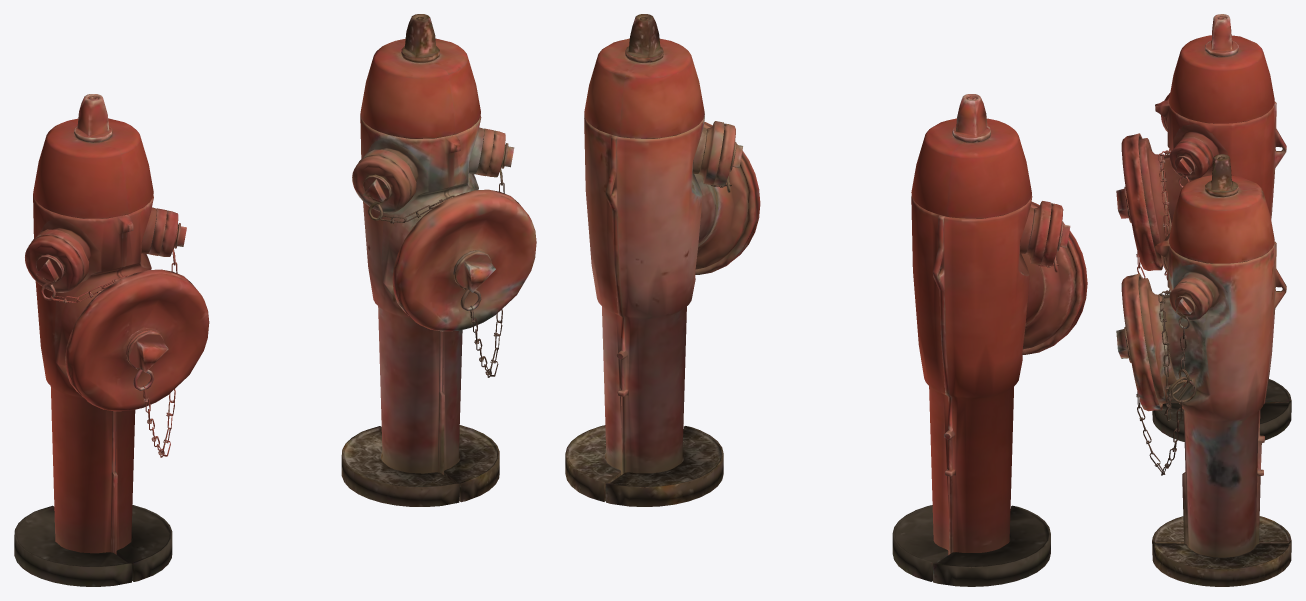
The model's file is PH-fire_hydrant.glb.
The picture shows the model from 3 angles, left to right: view 1: azimuth 30°, elevation 25°; view 2: azimuth 150°, elevation 25°; view 3: azimuth 270°, elevation 25°; orthographic projection. The views are drawn at different scales.
Visible parts, largest first — view 1: fire_hydrant, fire_hydrant_aged, fire_hydrant_cap_01_aged, fire_hydrant_cap_01, fire_hydrant_cap_03_aged, fire_hydrant_cap_03, fire_hydrant_chain_aged, fire_hydrant_chain, fire_hydrant_cap_02_aged, fire_hydrant_cap_02; view 2: fire_hydrant, fire_hydrant_aged, fire_hydrant_cap_01_aged, fire_hydrant_cap_01, fire_hydrant_cap_03, fire_hydrant_cap_03_aged; view 3: fire_hydrant_aged, fire_hydrant, fire_hydrant_cap_01_aged, fire_hydrant_cap_01, fire_hydrant_chain_aged, fire_hydrant_cap_02_aged, fire_hydrant_cap_02, fire_hydrant_chain.
Part boxes in pixels (x1,y1,x2,y2): fire_hydrant: (14, 94, 172, 586); fire_hydrant_aged: (341, 14, 499, 506); fire_hydrant_cap_01_aged: (392, 189, 536, 331); fire_hydrant_cap_01: (65, 269, 209, 411); fire_hydrant_cap_03_aged: (352, 155, 411, 213); fire_hydrant_cap_03: (25, 235, 83, 292); fire_hydrant_chain_aged: (368, 144, 505, 377); fire_hydrant_chain: (41, 224, 178, 457); fire_hydrant_cap_02_aged: (486, 130, 514, 177); fire_hydrant_cap_02: (158, 210, 186, 256); fire_hydrant: (892, 94, 1075, 586); fire_hydrant_aged: (565, 14, 748, 506); fire_hydrant_cap_01_aged: (695, 122, 760, 274); fire_hydrant_cap_01: (1022, 202, 1087, 354); fire_hydrant_cap_03: (1040, 203, 1070, 266); fire_hydrant_cap_03_aged: (713, 123, 742, 186); fire_hydrant_aged: (1139, 154, 1291, 586); fire_hydrant: (1139, 14, 1291, 441); fire_hydrant_cap_01_aged: (1116, 273, 1162, 411); fire_hydrant_cap_01: (1116, 133, 1162, 270); fire_hydrant_chain_aged: (1136, 289, 1196, 475); fire_hydrant_cap_02_aged: (1169, 281, 1209, 320); fire_hydrant_cap_02: (1169, 141, 1209, 180); fire_hydrant_chain: (1136, 149, 1194, 280).
Size of the model in its own units: 0.8746 by 0.7994 by 0.3173.
Materials: 2 (2 with a texture image).
